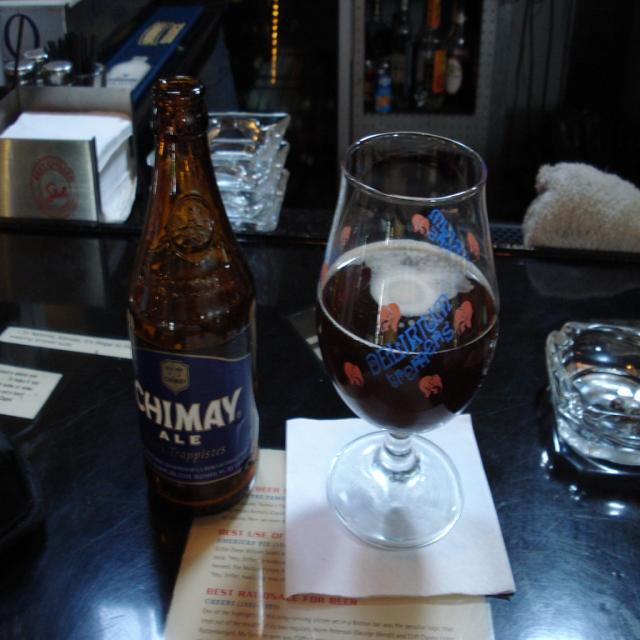chimay: (135, 347, 256, 485)
